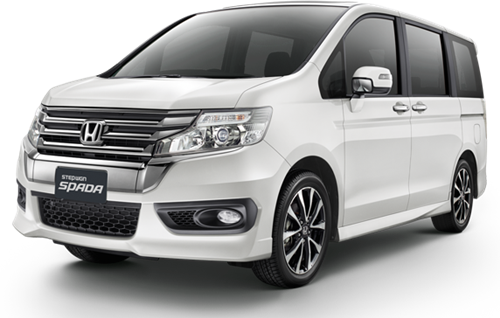van: (13, 2, 490, 288)
